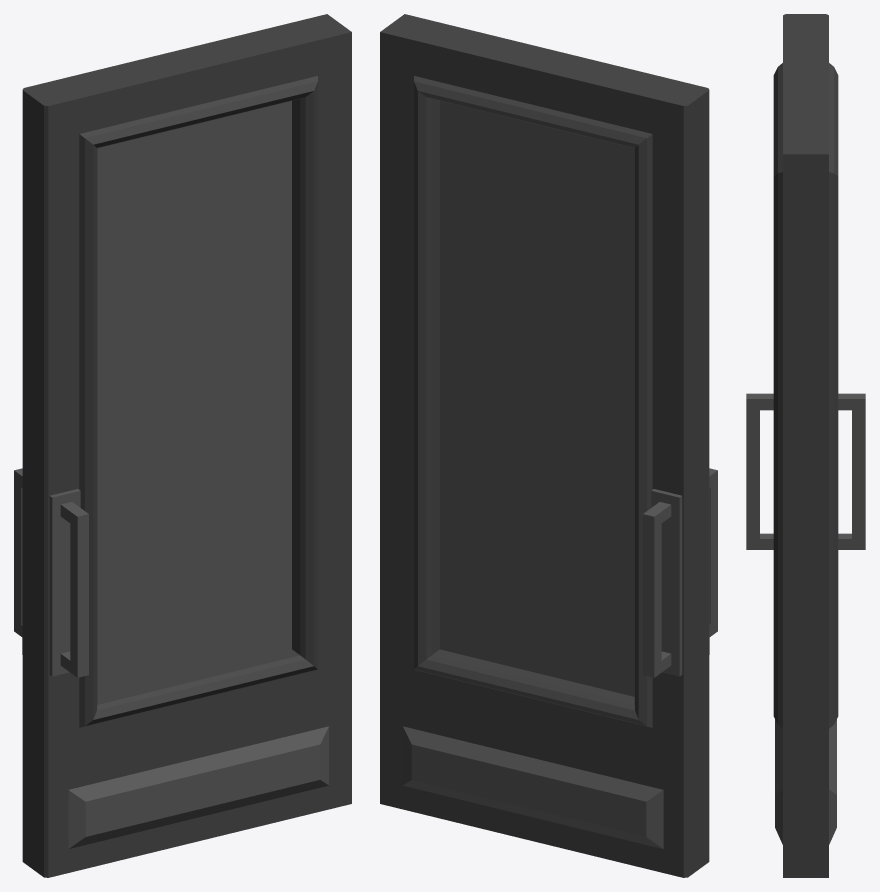
File: SM_Buildings_House_04_Door_R.fbx
3 renders of one model, left to right at view 1: azimuth 30°, elevation 25°; view 2: azimuth 150°, elevation 25°; view 3: azimuth 270°, elevation 25°, orthographic. The views are drawn at different scales.
Parts seen in each view (by area): view 1: SM_Buildings_House_04_Door_R; view 2: SM_Buildings_House_04_Door_R; view 3: SM_Buildings_House_04_Door_R.
Part boxes in pixels (x1=…): SM_Buildings_House_04_Door_R: x1=14, y1=14, x2=351, y2=877; SM_Buildings_House_04_Door_R: x1=380, y1=14, x2=717, y2=877; SM_Buildings_House_04_Door_R: x1=746, y1=14, x2=865, y2=877.
Size of the model in its own units: 1.08 by 2.59 by 0.3861.
